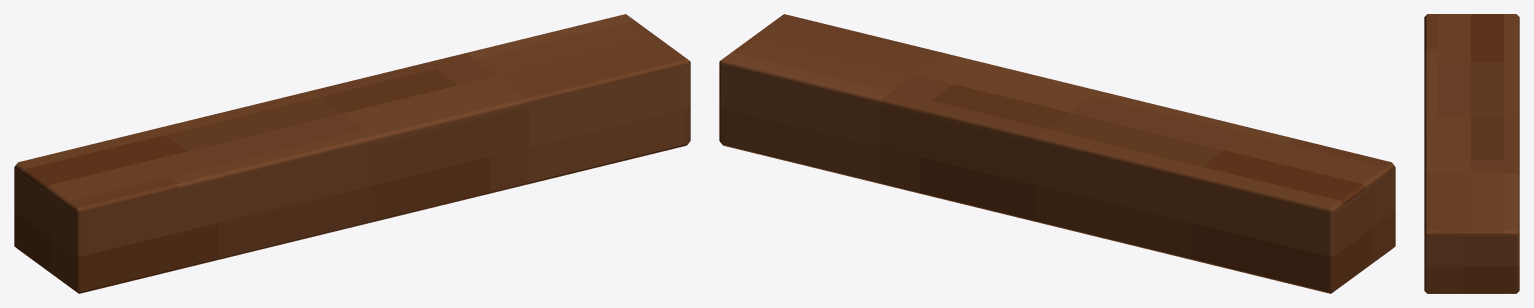
Rendered from Foot-rail.glb.
3 renders of one model, left to right at view 1: azimuth 30°, elevation 25°; view 2: azimuth 150°, elevation 25°; view 3: azimuth 270°, elevation 25°, orthographic. The views are drawn at different scales.
Parts seen in each view (by area): view 1: Foot-rail; view 2: Foot-rail; view 3: Foot-rail.
Part boxes in pixels (left/top/right/bottom): Foot-rail: left=14, top=14, right=690, bottom=293; Foot-rail: left=719, top=14, right=1395, bottom=293; Foot-rail: left=1424, top=14, right=1519, bottom=293.
Bounding box in the file's own units: 0.31 × 0.042 × 0.057.
1 material, 1 textured.
